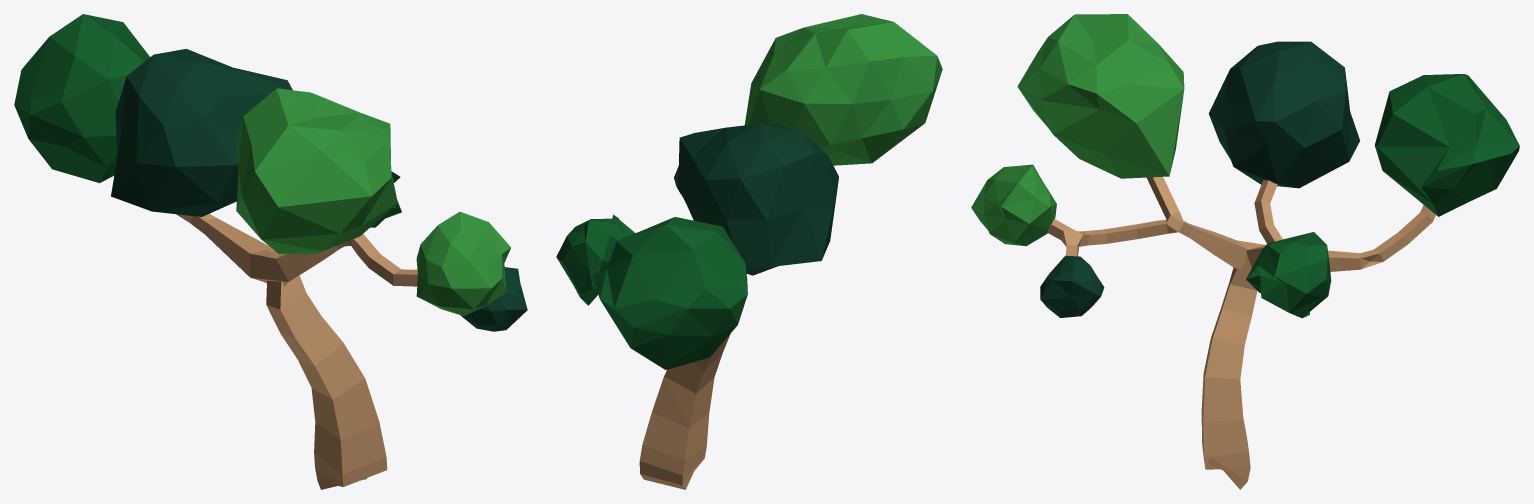
The model's file is low_poly_stablo_vise_kugli-bezsvjetla.fbx.
3 views of the same model, side by side, from view 1: azimuth 30°, elevation 25°; view 2: azimuth 150°, elevation 25°; view 3: azimuth 270°, elevation 25° (orthographic). The views are drawn at different scales.
Visible parts, largest first — view 1: Icosphere.002, Icosphere.001, Cube, Icosphere, Icosphere.003, Icosphere.004; view 2: Icosphere.002, Icosphere.001, Icosphere, Cube, Icosphere.005; view 3: Icosphere.002, Icosphere.001, Cube, Icosphere, Icosphere.005, Icosphere.003, Icosphere.004.
Part boxes in pixels (x1=…): Icosphere.002: x1=236, y1=88, x2=397, y2=254; Icosphere.001: x1=111, y1=49, x2=292, y2=216; Cube: x1=176, y1=214, x2=417, y2=489; Icosphere: x1=14, y1=14, x2=149, y2=183; Icosphere.003: x1=416, y1=211, x2=510, y2=315; Icosphere.004: x1=460, y1=267, x2=527, y2=331; Icosphere.002: x1=744, y1=14, x2=942, y2=165; Icosphere.001: x1=678, y1=123, x2=838, y2=275; Icosphere: x1=593, y1=217, x2=747, y2=369; Cube: x1=639, y1=334, x2=730, y2=489; Icosphere.005: x1=556, y1=214, x2=635, y2=305; Icosphere.002: x1=1017, y1=14, x2=1184, y2=178; Icosphere.001: x1=1208, y1=41, x2=1359, y2=188; Cube: x1=1047, y1=176, x2=1435, y2=489; Icosphere: x1=1374, y1=74, x2=1519, y2=216; Icosphere.005: x1=1246, y1=232, x2=1331, y2=318; Icosphere.003: x1=971, y1=164, x2=1056, y2=246; Icosphere.004: x1=1040, y1=255, x2=1104, y2=317.
Bounding box in the file's own units: 382 × 752 × 621.
